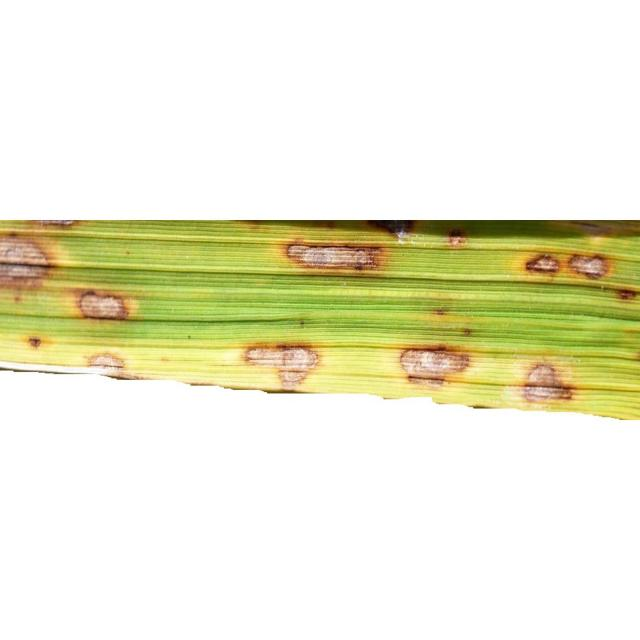Brown spot: (268, 223, 398, 277), (498, 341, 594, 413), (228, 336, 336, 391), (390, 342, 480, 402), (0, 224, 64, 306), (70, 271, 160, 327), (517, 242, 614, 284), (82, 342, 149, 372), (21, 326, 48, 356), (454, 324, 486, 337), (293, 310, 312, 330), (182, 324, 196, 344), (426, 301, 444, 316)
